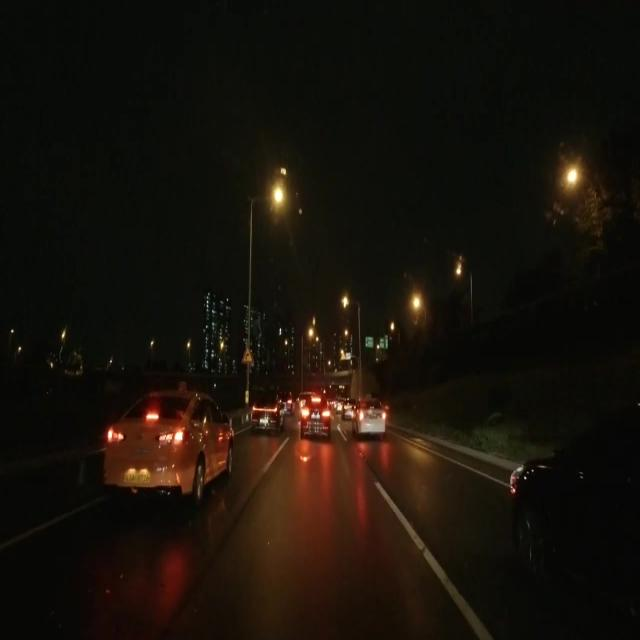Car: (510, 418, 639, 608), (102, 387, 231, 512), (351, 394, 388, 441), (251, 391, 283, 431), (301, 392, 328, 434)
